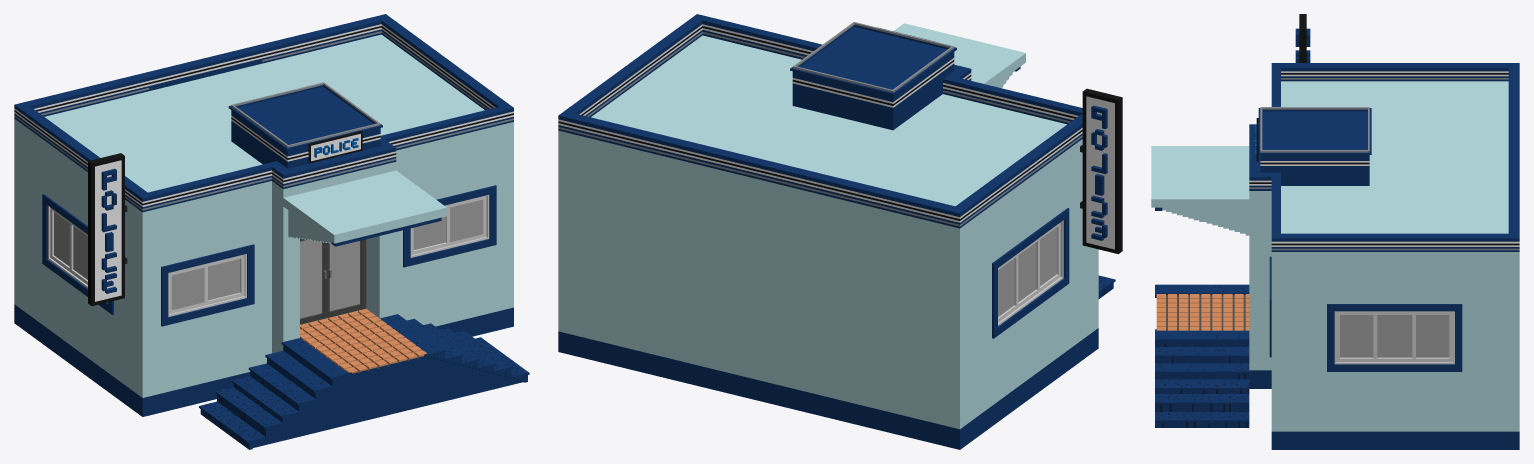
The model's file is police_station.fbx.
3 renders of one model, left to right at view 1: azimuth 30°, elevation 25°; view 2: azimuth 150°, elevation 25°; view 3: azimuth 270°, elevation 25°, orthographic. The views are drawn at different scales.
Parts seen in each view (by area): view 1: Untitled.001, Untitled; view 2: Untitled.001, Untitled; view 3: Untitled.001, Untitled.
Boxes of the visible parts, x1,y1,x2,y2 form: Untitled.001: (14, 14, 529, 449); Untitled: (88, 153, 127, 305); Untitled.001: (558, 14, 1115, 449); Untitled: (1080, 88, 1122, 254); Untitled.001: (1151, 63, 1519, 449); Untitled: (1295, 14, 1310, 62).
Bounding box in the file's own units: 2470 × 1450 × 1990.
Materials: 2 (2 with a texture image).
